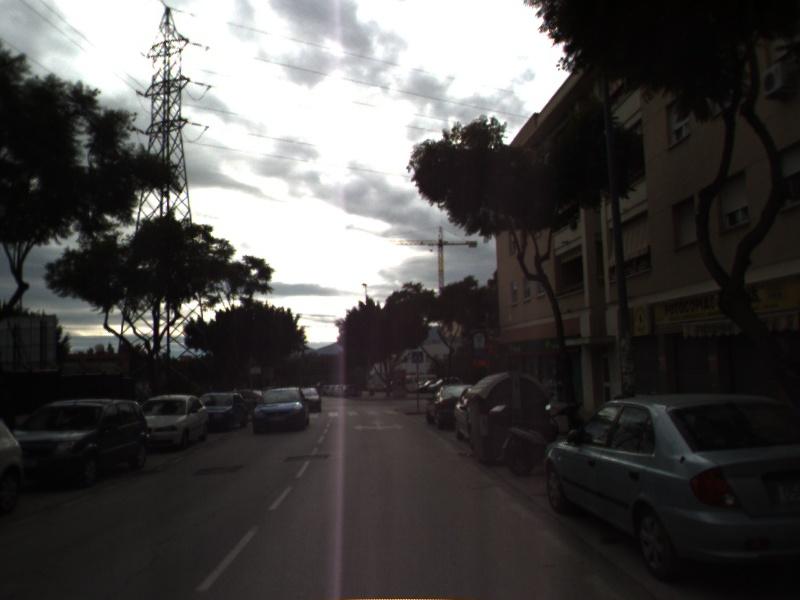STRAIGHT_LEFT_RIGHT: (351, 417, 408, 433)
